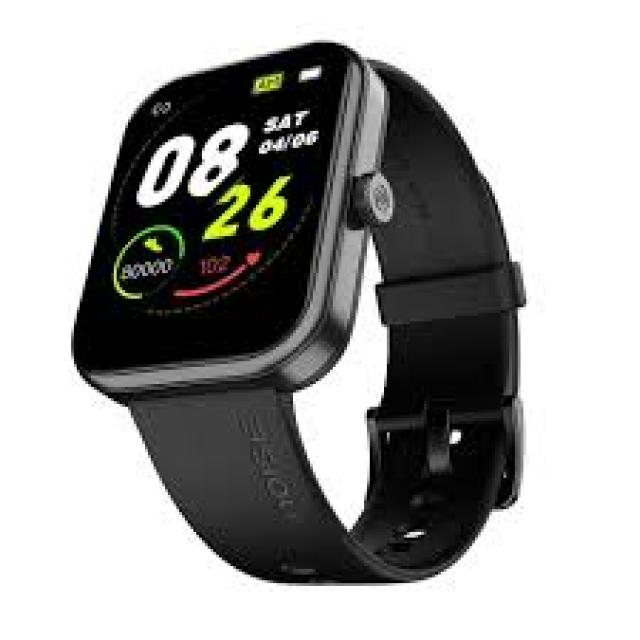objects: (73, 43, 523, 584)
